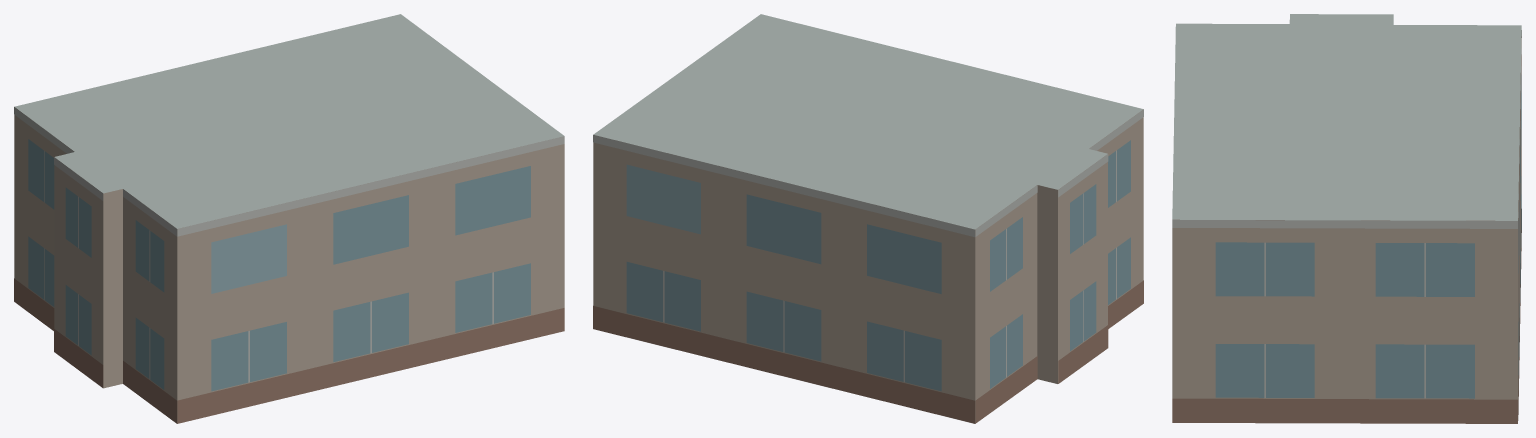
Rendered from survey-upis-33037006.glb.
3 renders of one model, left to right at view 1: azimuth 30°, elevation 25°; view 2: azimuth 150°, elevation 25°; view 3: azimuth 270°, elevation 25°, orthographic. The views are drawn at different scales.
Parts seen in each view (by area): view 1: survey-upis-33037006.tmp; view 2: survey-upis-33037006.tmp; view 3: survey-upis-33037006.tmp.
Part boxes in pixels (x1=…): survey-upis-33037006.tmp: x1=14, y1=14, x2=564, y2=423; survey-upis-33037006.tmp: x1=593, y1=14, x2=1143, y2=423; survey-upis-33037006.tmp: x1=1172, y1=14, x2=1521, y2=423.
Size of the model in its own units: 13.34 by 6.1 by 9.53.
